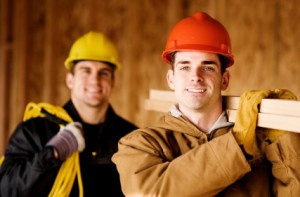red: (162, 12, 234, 108)
yellow: (66, 31, 118, 107)
